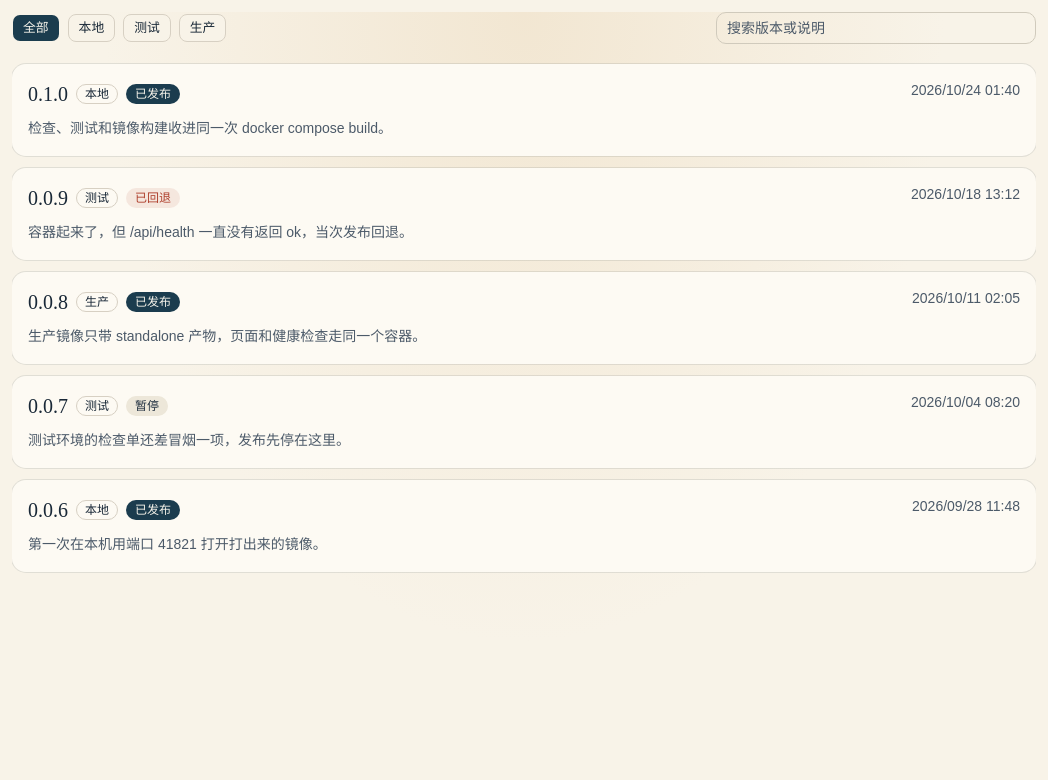
Test case: ReleaseBoard › shows an empty state and can clear it
This screenshot has width=1048, height=780.
Type "没有这条发布" into the field labelled "搜索版本或说明".
click(876, 28); type("没有这条发布")  # box [716,12,1036,44]
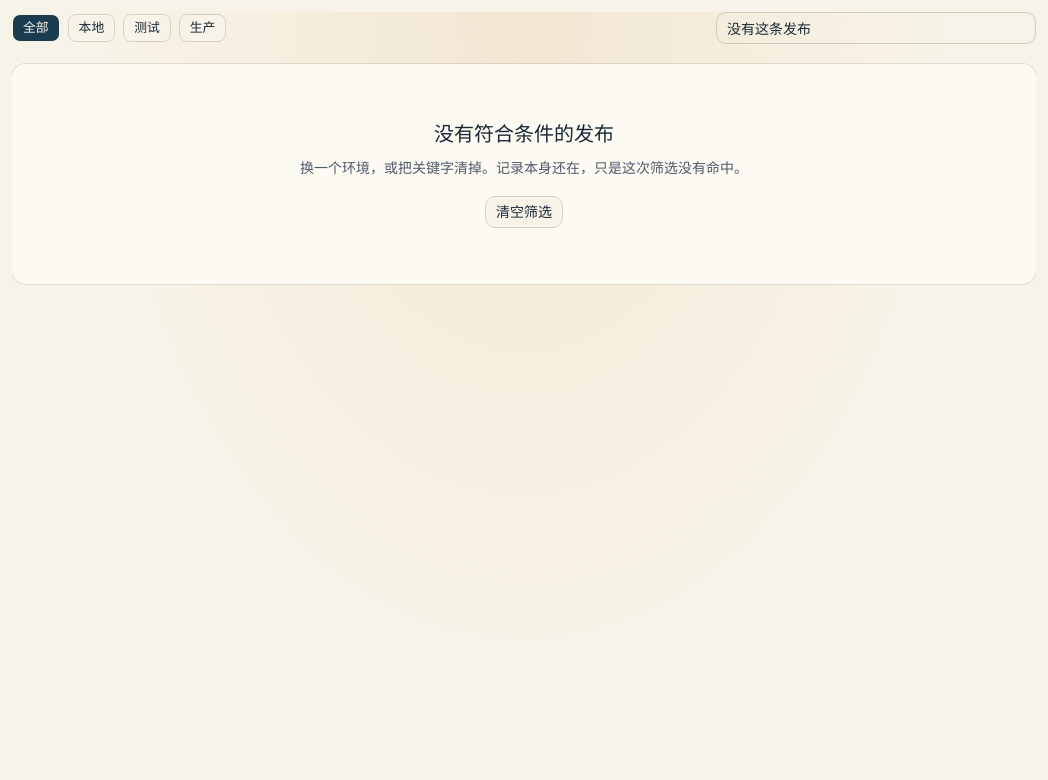
Expected: the text "没有符合条件的发布" is shown, [434,123,614,145]
Expected: the heading "0.1.0" is gone
Click the button "清空筛选".
click(524, 212)  # box [485,196,563,228]
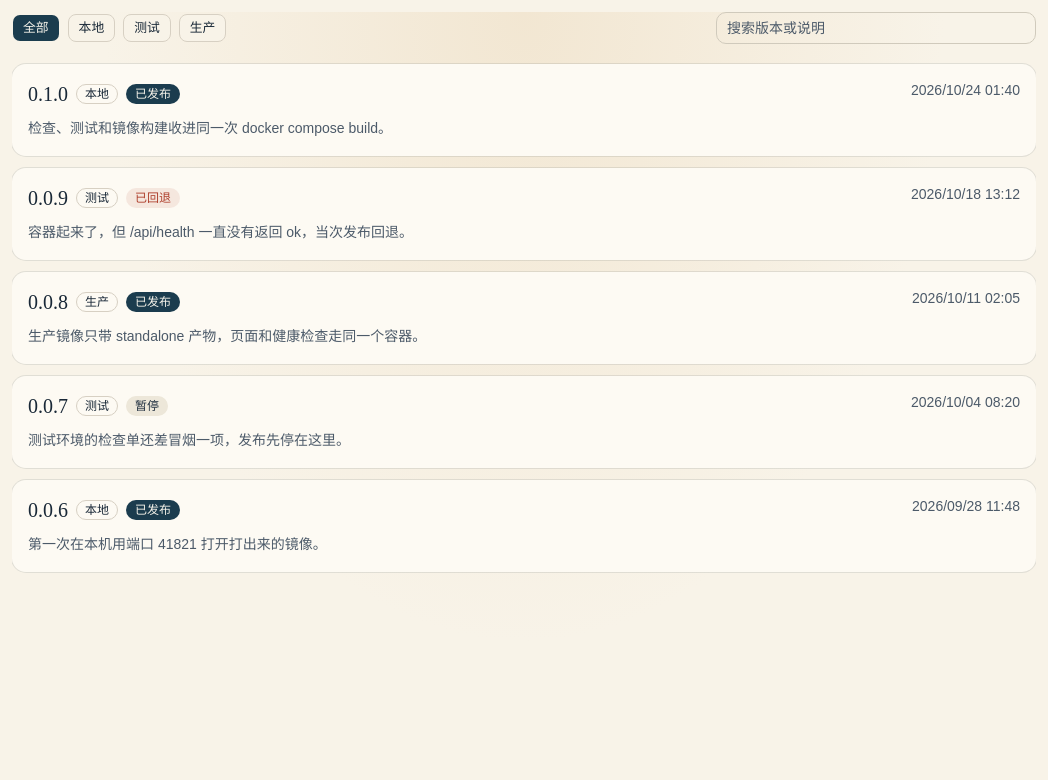
Expected: the heading "0.1.0" is shown, [28,80,68,108]
